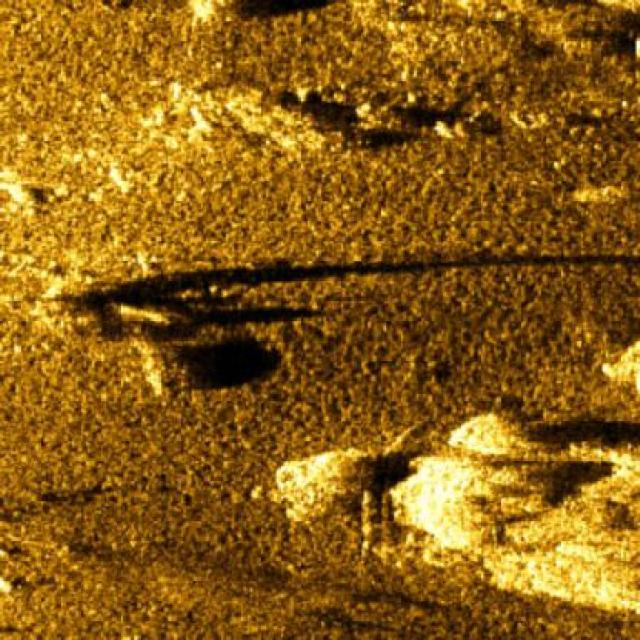bedrock group: (275, 411, 639, 611)
